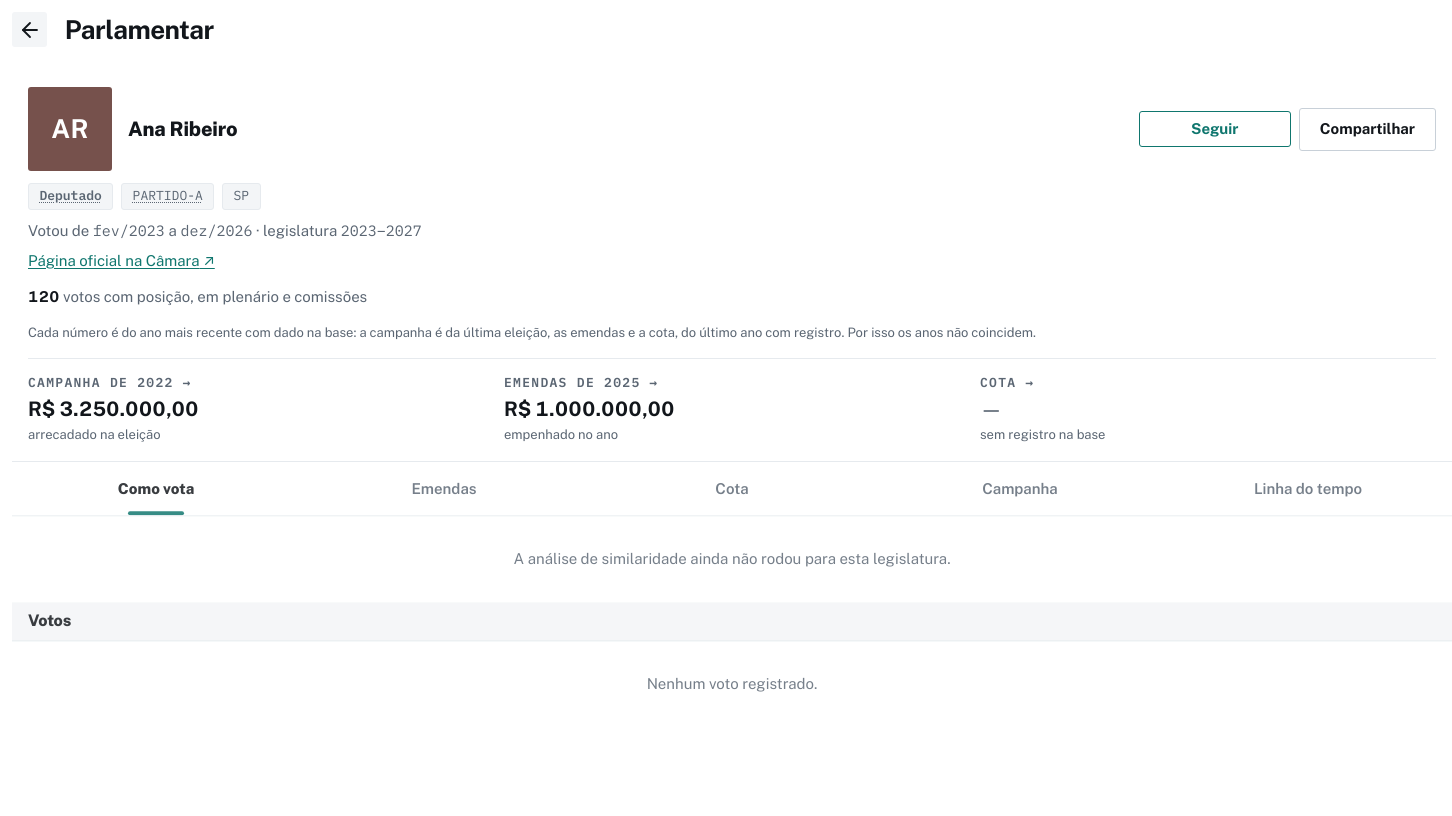
it: contas — emendas › soma o que foi pago nos anos seguintes (restos a pagar)
Click the link "Emendas". click: point(444, 489)
box: [412, 480, 476, 497]
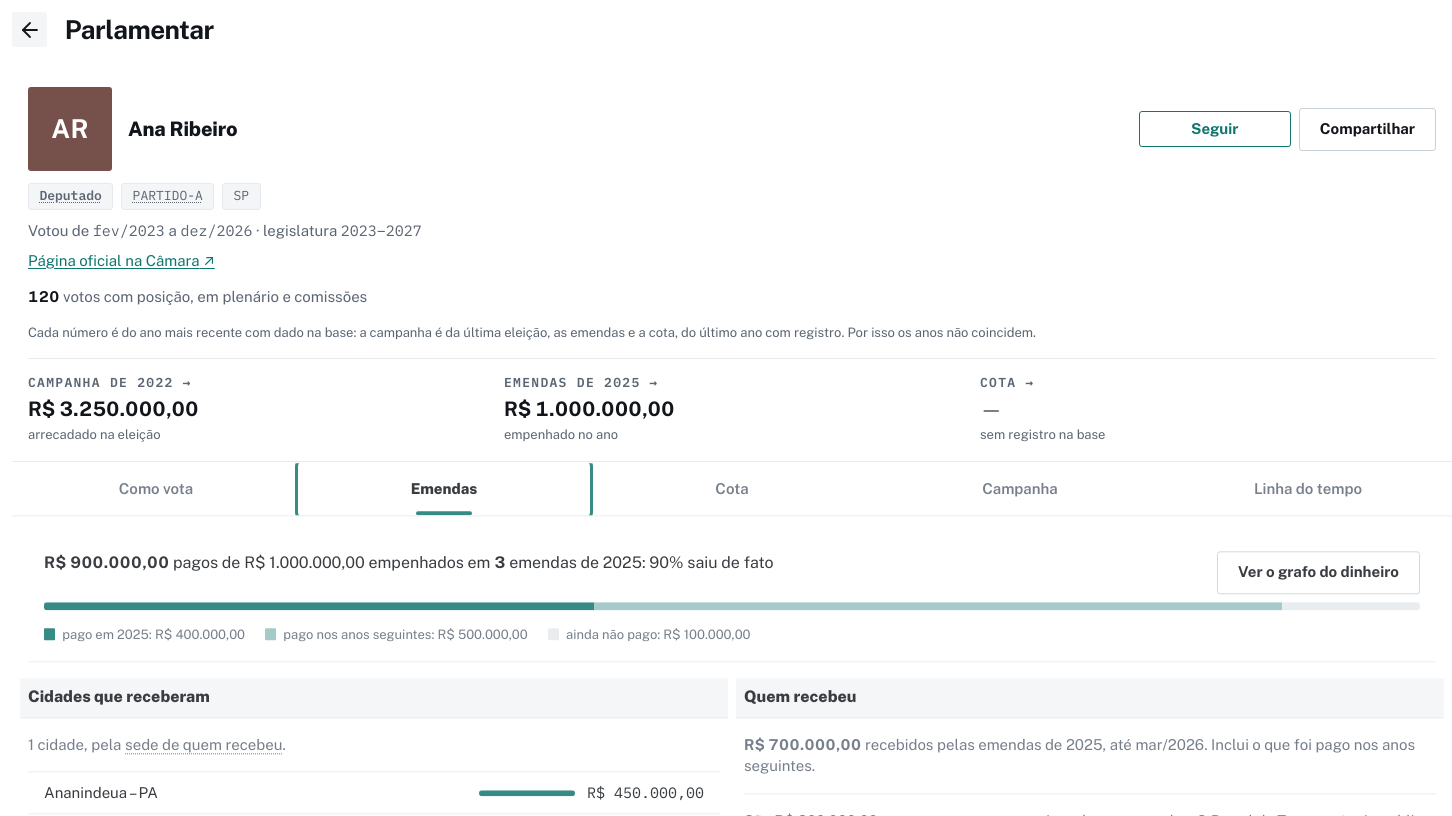
expect the text "90% saiu de fato" is shown: met, box [44, 552, 774, 571]
expect the text "pago nos anos seguintes: R$ 500.000,00" is shown: met, box [265, 625, 528, 644]
expect the text "ainda não pago: R$ 100.000,00" is shown: met, box [548, 625, 750, 644]
